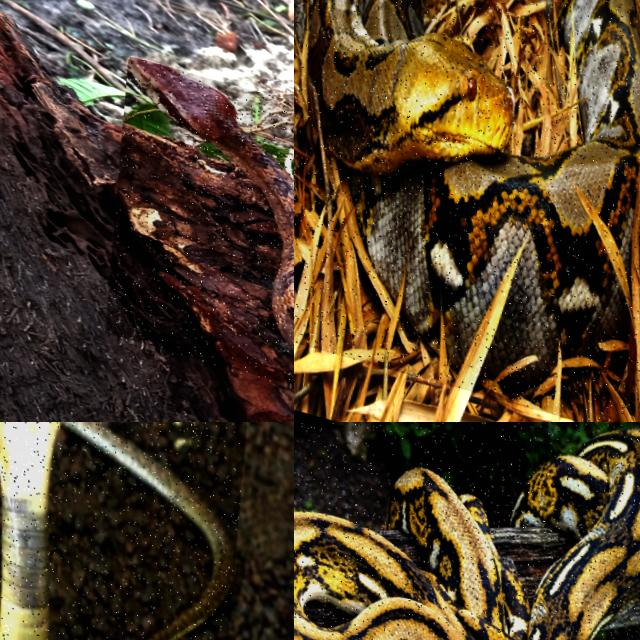Calloselasma rhodostoma: (127, 58, 293, 354)
Malayopython reticulatus: (309, 0, 639, 385), (294, 429, 639, 639)
Naja kaouthia: (0, 422, 234, 639)
